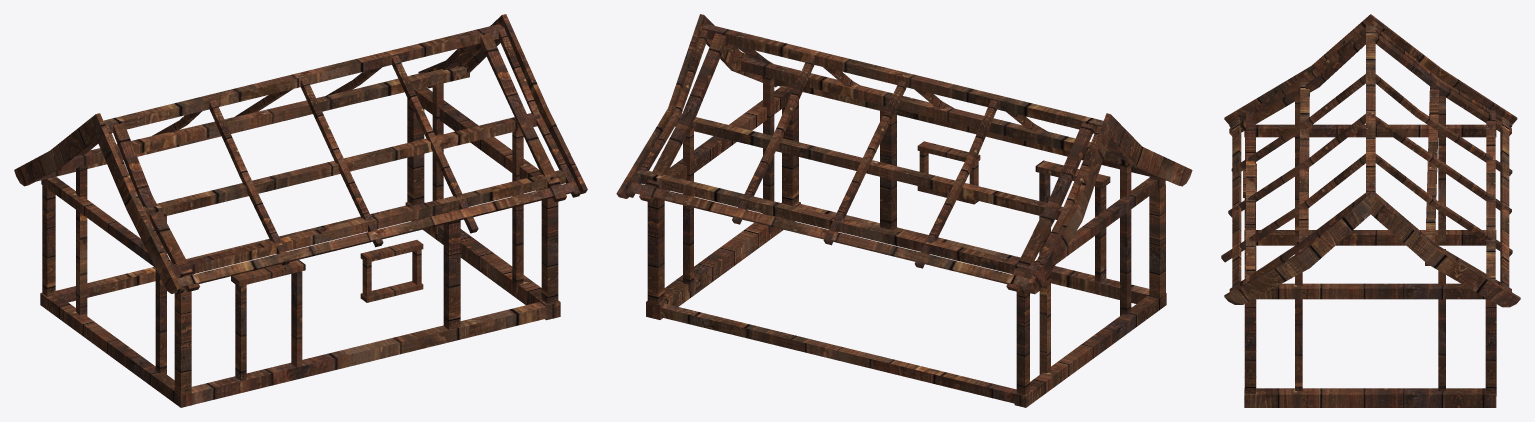
Rendered from shack_frame.fbx.
3 views of the same model, side by side, from view 1: azimuth 30°, elevation 25°; view 2: azimuth 150°, elevation 25°; view 3: azimuth 270°, elevation 25° (orthographic). The views are drawn at different scales.
Visible parts, largest first — view 1: polySurface364; view 2: polySurface364; view 3: polySurface364.
Boxes of the visible parts, x1,y1,x2,y2 form: polySurface364: (14, 14, 587, 407); polySurface364: (616, 14, 1192, 407); polySurface364: (1221, 14, 1520, 407).
Bounding box in the file's own units: 994 × 560 × 685.
